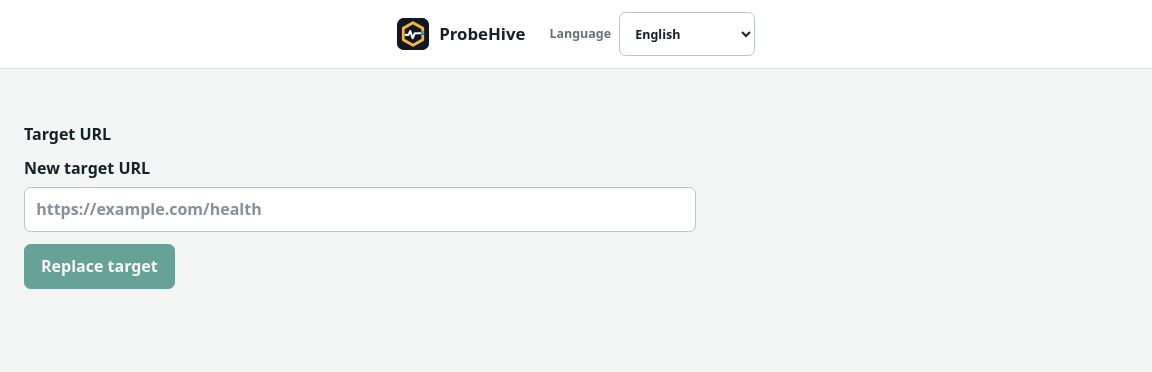
localizes concurrent updates from the shared Problem Details catalog
Type "https://example.com/ready" into the field labelled "New target URL" at (360, 209), box [24,187,696,232]
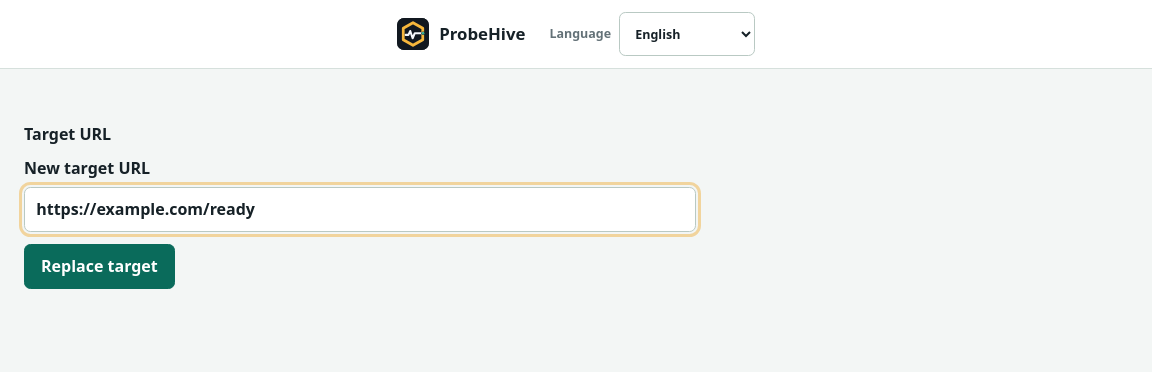
Click the button "Replace target" at (99, 266), box [24,244,175,289]
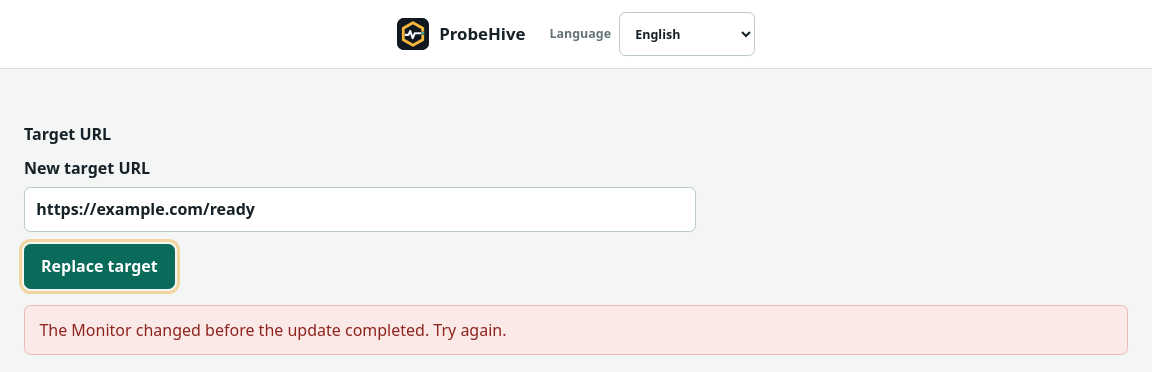
Expected: the button "Replace target" is enabled, [24,244,175,289]
Expected: the text "The Monitor changed before the update completed. Try again." is shown, [24,305,1128,355]
